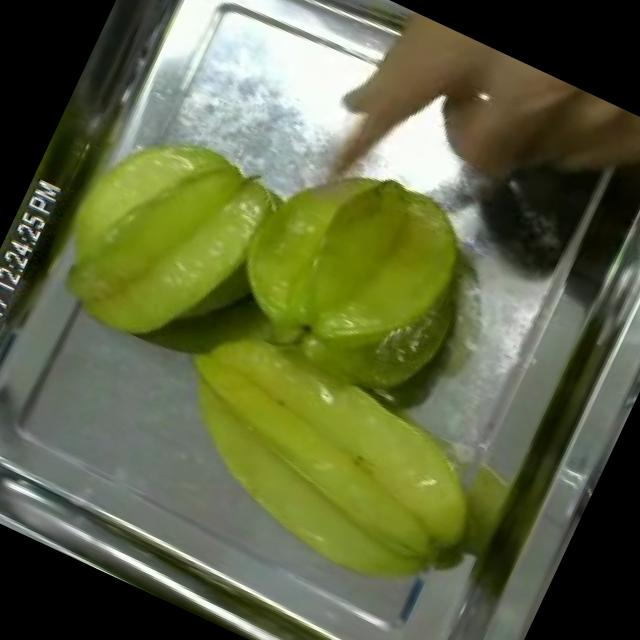fruit: (127, 303, 526, 634), (203, 120, 507, 413), (21, 94, 300, 386), (347, 3, 640, 244)
